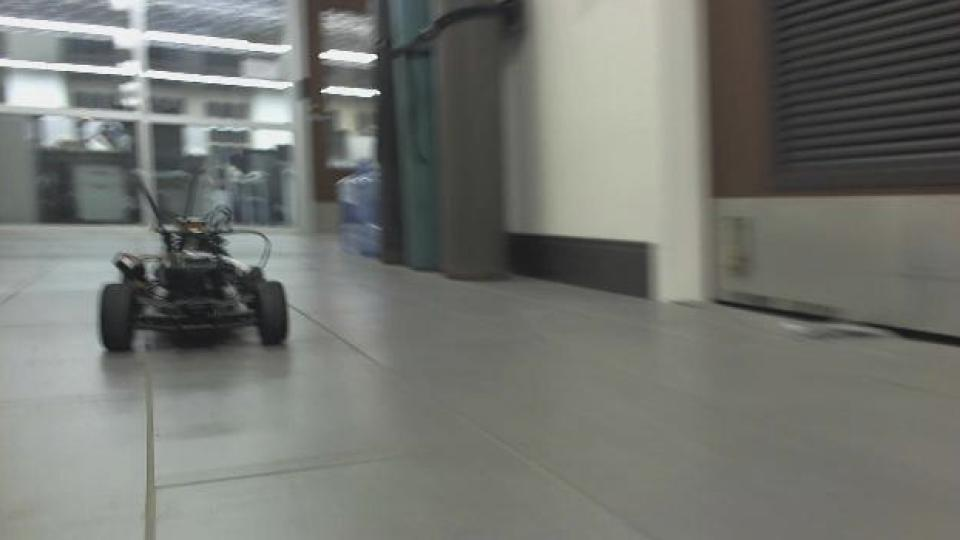car: (96, 160, 293, 355)
